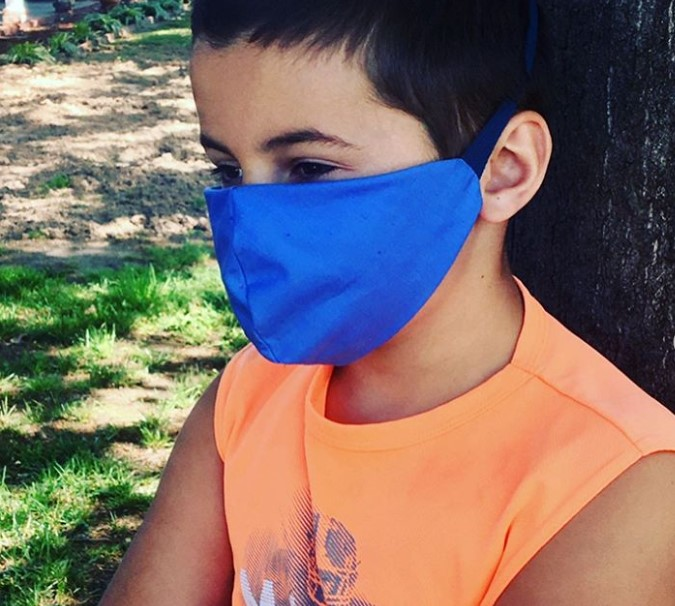face_with_mask: (191, 7, 557, 370)
